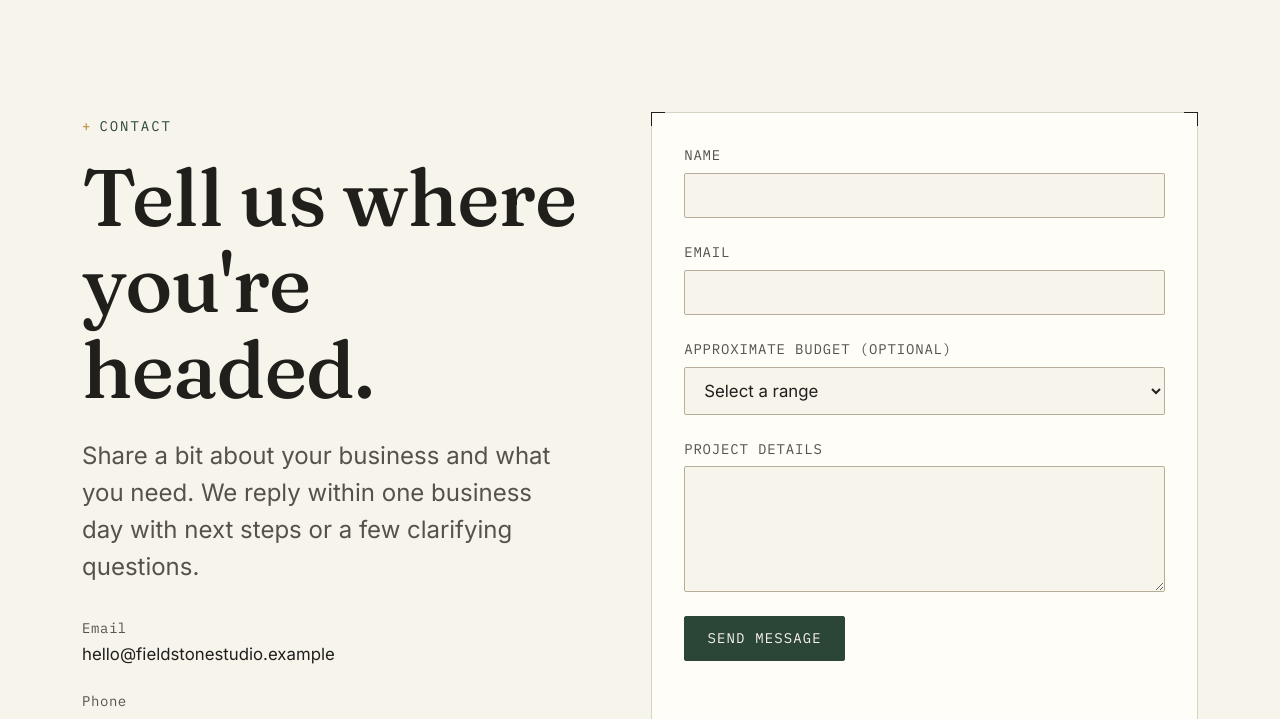
Contact form › shows a success message on valid submission
The width and height of the screenshot is (1280, 719).
In the field labelled "Name": [925, 195] box [684,173,1165,218], type "Asha Kapoor"
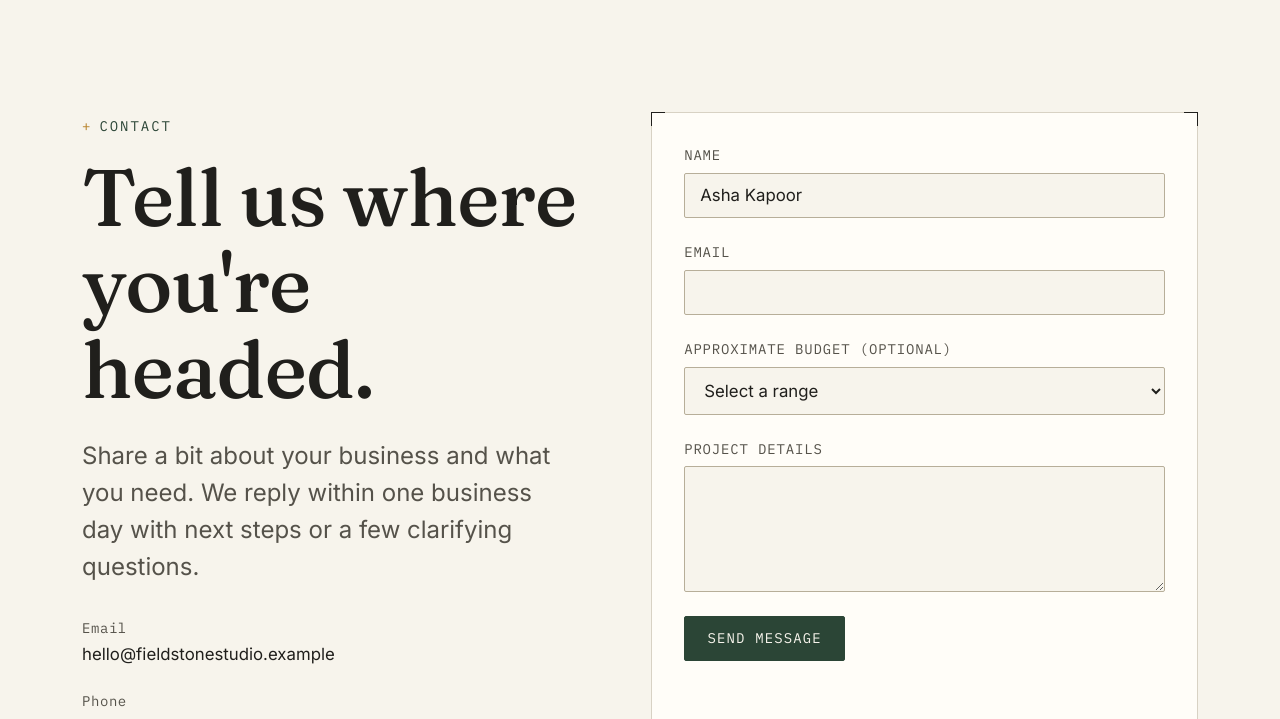
In the field labelled "Email": [925, 293] box [684,270,1165,315], type "asha@example.com"
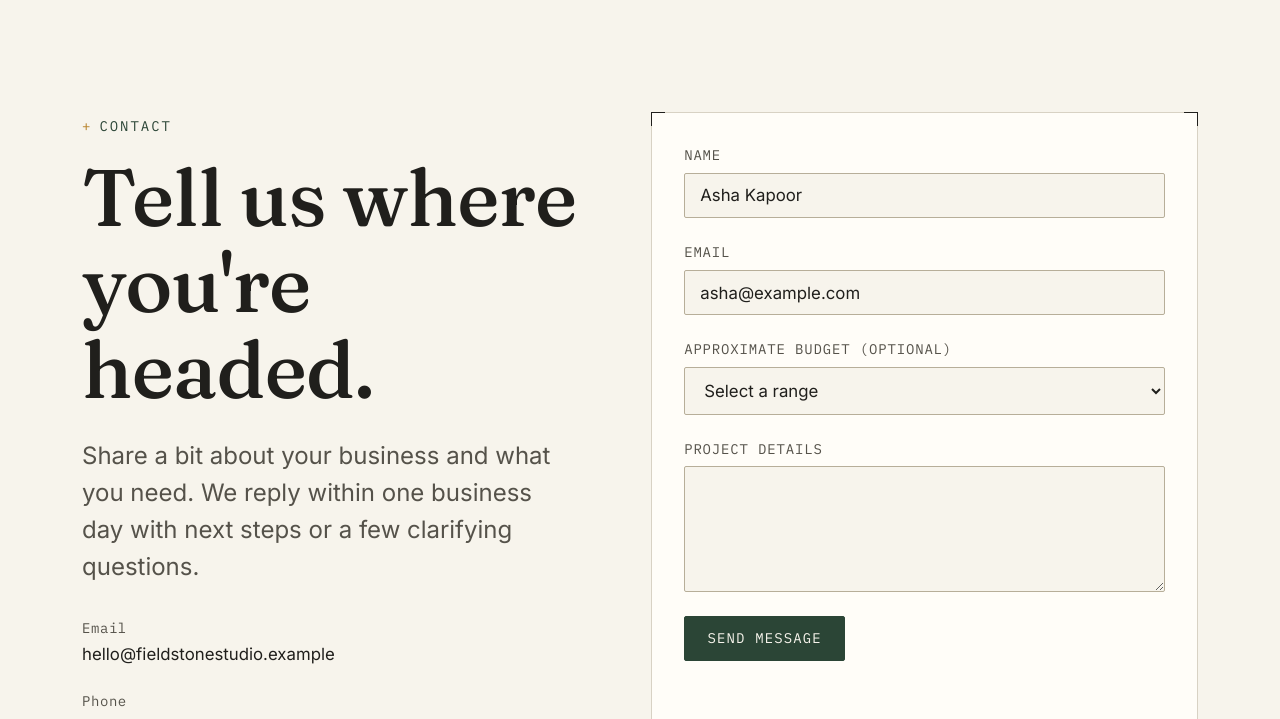
In the text box labelled "Project details": [925, 529] box [684,466,1165,592], type "We need a new brand identity and website for our studio."
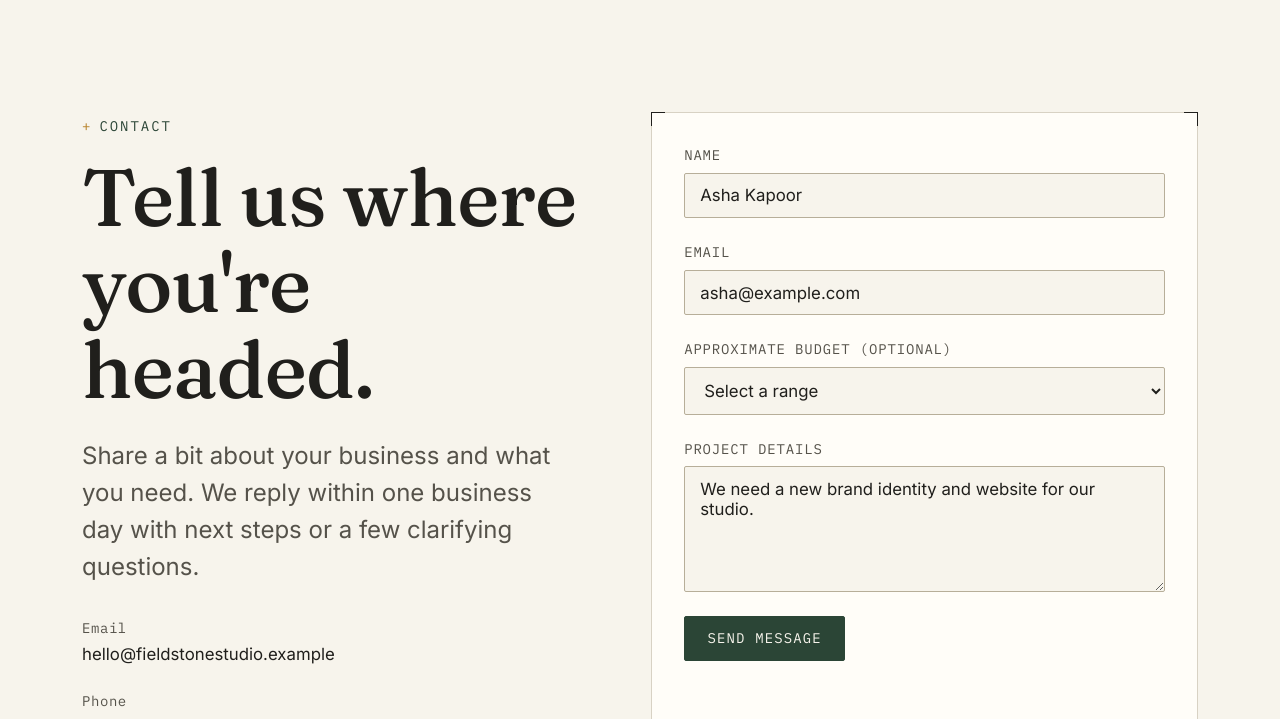
Click the button "Send message": [765, 638] box [684,616,845,661]
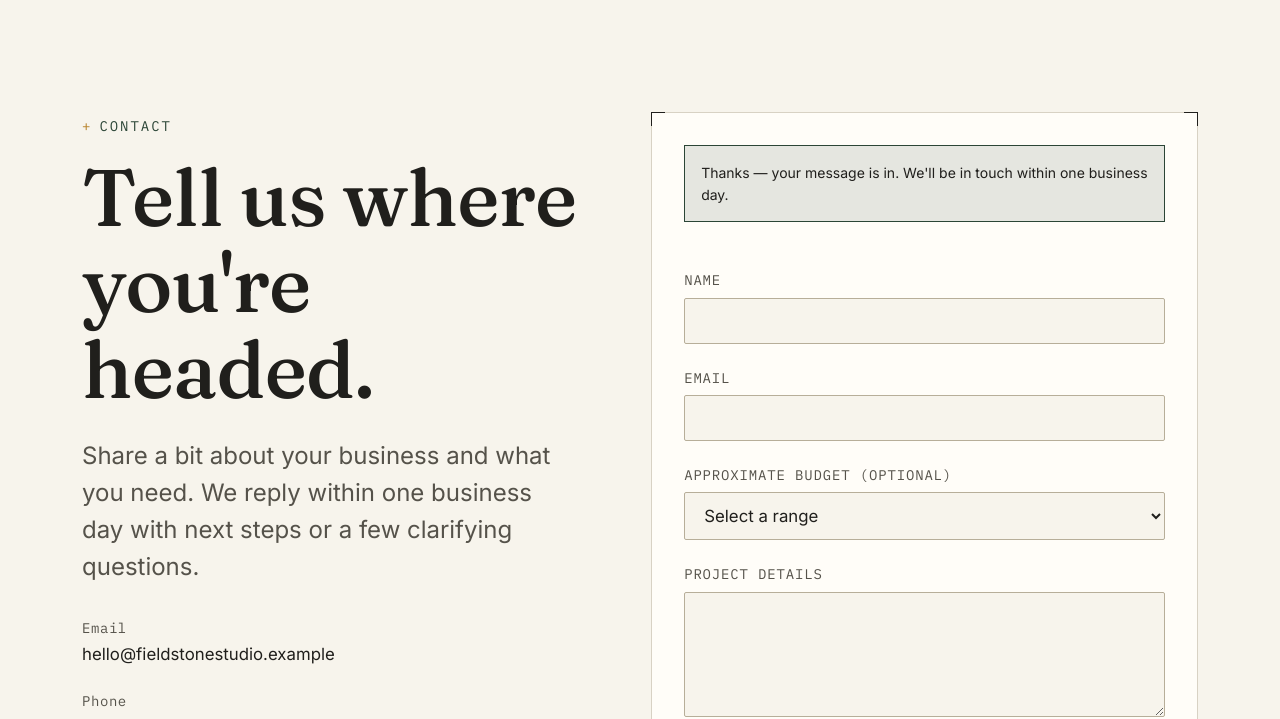
Expected: the message shows "Thanks", [701,164,1148,203]
